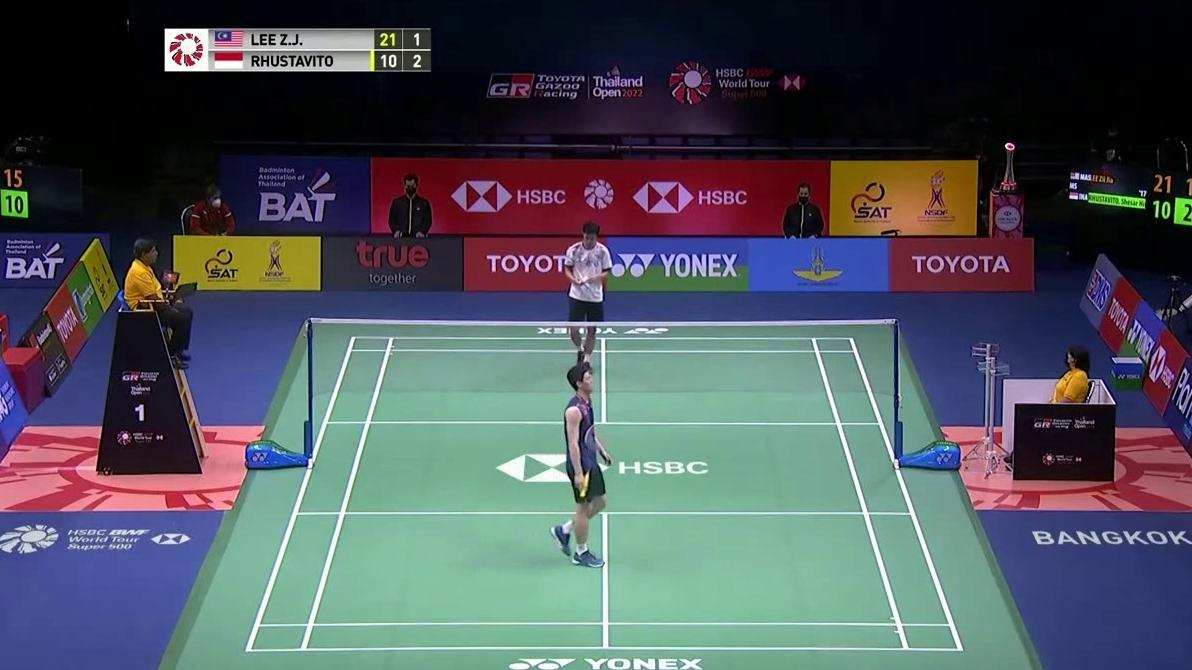racket: (581, 422, 606, 496)
